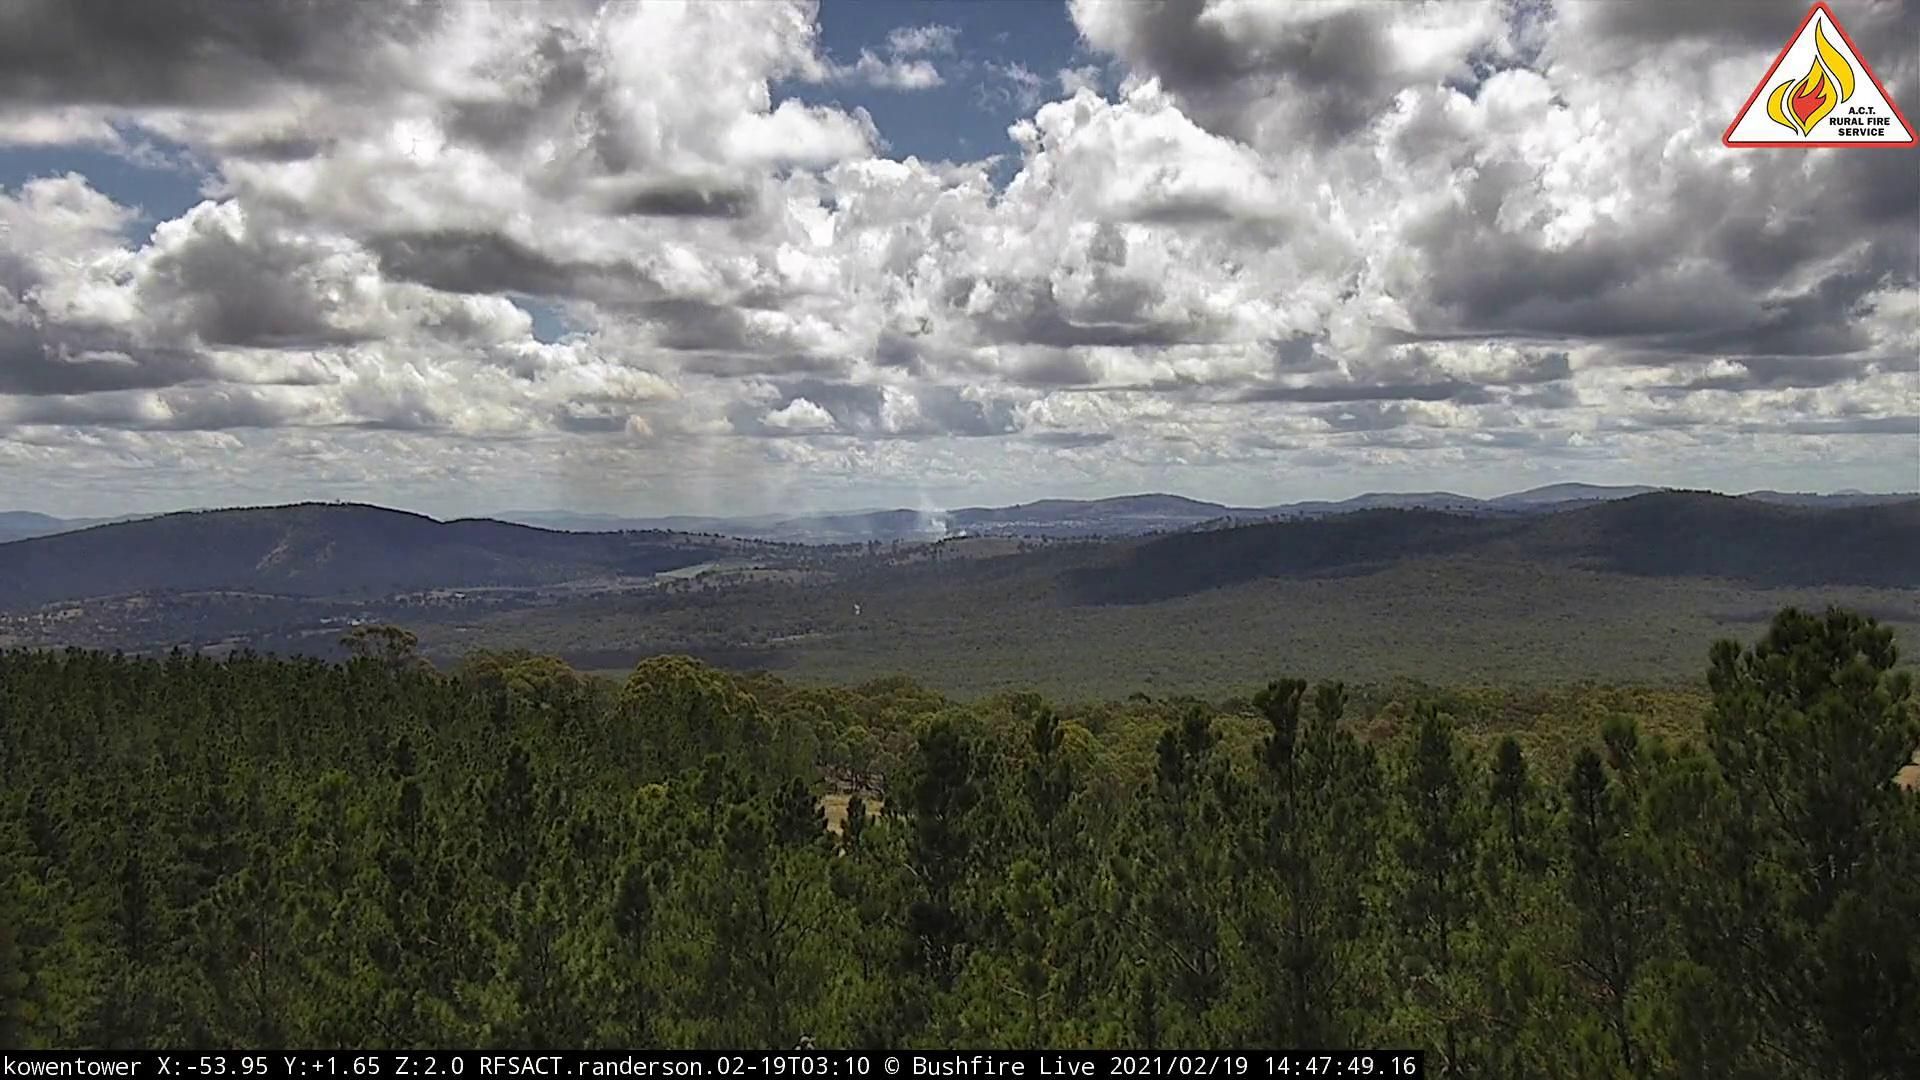Smoke: (512, 398, 977, 549)
